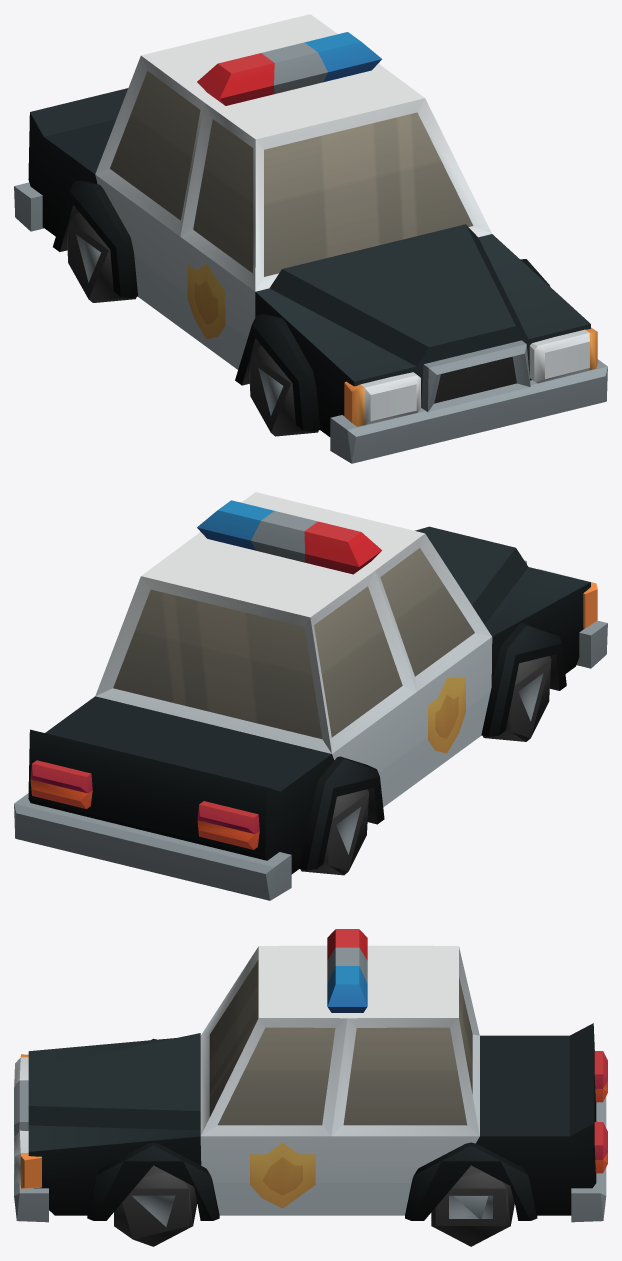
Rendered from cc0-car-police-lod1.glb.
3 renders of one model, top to bottom at view 1: azimuth 30°, elevation 25°; view 2: azimuth 150°, elevation 25°; view 3: azimuth 270°, elevation 25°, orthographic. The views are drawn at different scales.
Visible parts, largest first — view 1: part_0; view 2: part_0; view 3: part_0.
Part boxes in pixels (x1,y1,x2,y2): part_0: (14,14,607,463); part_0: (14,492,607,900); part_0: (14,929,607,1246).
Bounding box in the file's own units: 0.419 × 0.4126 × 0.9381.
1 material, 1 textured.
